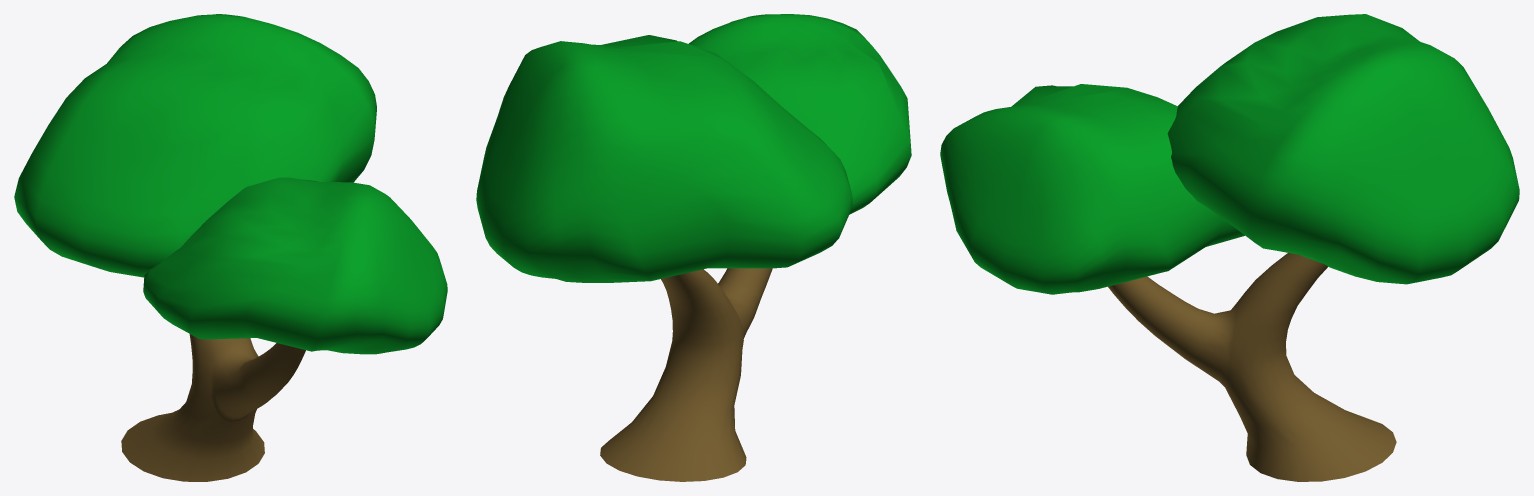
The model's file is Tree_Variant_1.fbx.
3 renders of one model, left to right at view 1: azimuth 30°, elevation 25°; view 2: azimuth 150°, elevation 25°; view 3: azimuth 270°, elevation 25°, orthographic. The views are drawn at different scales.
Visible parts, largest first — view 1: Big_Leaf, Small_Leaf, Tree_Trunk_1; view 2: Big_Leaf, Small_Leaf, Tree_Trunk_1; view 3: Big_Leaf, Small_Leaf, Tree_Trunk_1.
Part boxes in pixels (bbox=[...]): Big_Leaf: bbox=[14, 14, 376, 277]; Small_Leaf: bbox=[143, 177, 447, 354]; Tree_Trunk_1: bbox=[121, 334, 305, 481]; Big_Leaf: bbox=[476, 35, 852, 282]; Small_Leaf: bbox=[688, 14, 911, 214]; Tree_Trunk_1: bbox=[600, 268, 772, 481]; Big_Leaf: bbox=[1167, 14, 1519, 284]; Small_Leaf: bbox=[940, 84, 1244, 294]; Tree_Trunk_1: bbox=[1108, 253, 1396, 481].
Size of the model in its own units: 10.23 by 11.92 by 14.61.
